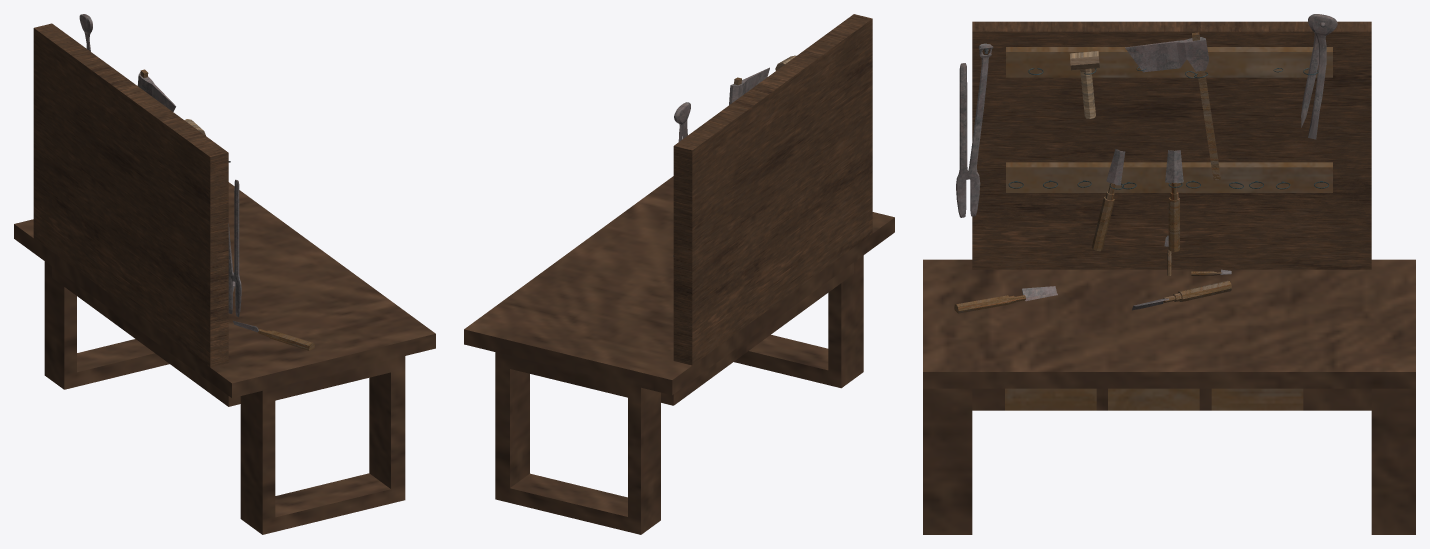
Rendered from CraftingTable.fbx.
3 views of the same model, side by side, from view 1: azimuth 30°, elevation 25°; view 2: azimuth 150°, elevation 25°; view 3: azimuth 270°, elevation 25° (orthographic). The views are drawn at different scales.
Parts seen in each view (by area): view 1: Mesa, Encosto Mesa, Ferramenta8, Ferramenta10, CaboFerramenta4; view 2: Mesa, Encosto Mesa, Ferramenta10; view 3: Mesa, Encosto Mesa, Peças de Madeira, Ferramenta8, Ferramenta10, Ferramenta7, Ferramenta9, CaboFerramenta10, CaboFerramenta3, CaboFerramenta2, CaboFerramenta1, CaboFerramenta4.
Boxes of the visible parts, box(x1,y1,x2,y2) form: Mesa: box(14, 182, 435, 534); Encosto Mesa: box(33, 23, 228, 367); Ferramenta8: box(228, 179, 241, 317); Ferramenta10: box(137, 72, 175, 111); CaboFerramenta4: box(258, 329, 314, 350); Mesa: box(464, 176, 894, 534); Encosto Mesa: box(673, 14, 872, 365); Ferramenta10: box(729, 67, 769, 104); Mesa: box(923, 259, 1415, 534); Encosto Mesa: box(972, 21, 1371, 269); Peças de Madeira: box(1005, 47, 1332, 410); Ferramenta8: box(956, 43, 993, 217); Ferramenta10: box(1125, 37, 1208, 72); Ferramenta7: box(1301, 14, 1337, 139); Ferramenta9: box(1070, 51, 1099, 118); CaboFerramenta10: box(1192, 32, 1220, 180); CaboFerramenta3: box(1168, 182, 1179, 251); CaboFerramenta2: box(1091, 183, 1115, 251); CaboFerramenta1: box(1163, 280, 1231, 302); CaboFerramenta4: box(954, 295, 1025, 313).
Bounding box in the file's own units: 268 × 491 × 497.
Materials: 23 (23 with a texture image).
